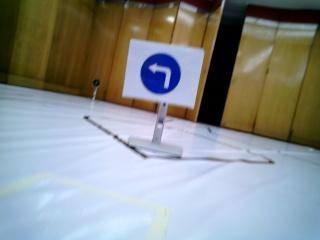left: (127, 38, 195, 107)
